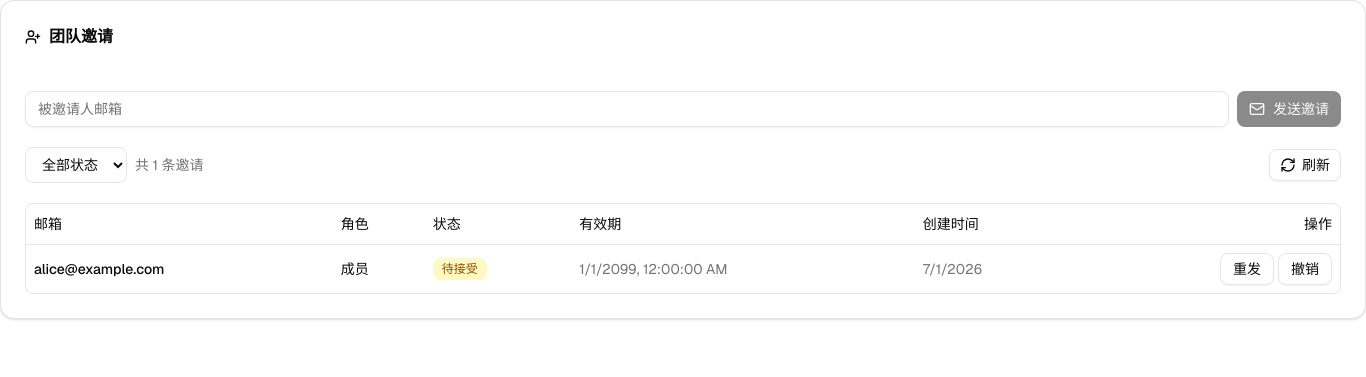
Scenario: InvitationsManager - 撤销与重发 › 重发 410 → 内联显示后端 error（不刷新列表）
This screenshot has width=1366, height=377.
Expected: the text "alice@example.com" is shown, [26, 244, 333, 292]
Click the button "重发".
click(1247, 268)  # box [1220, 252, 1274, 284]
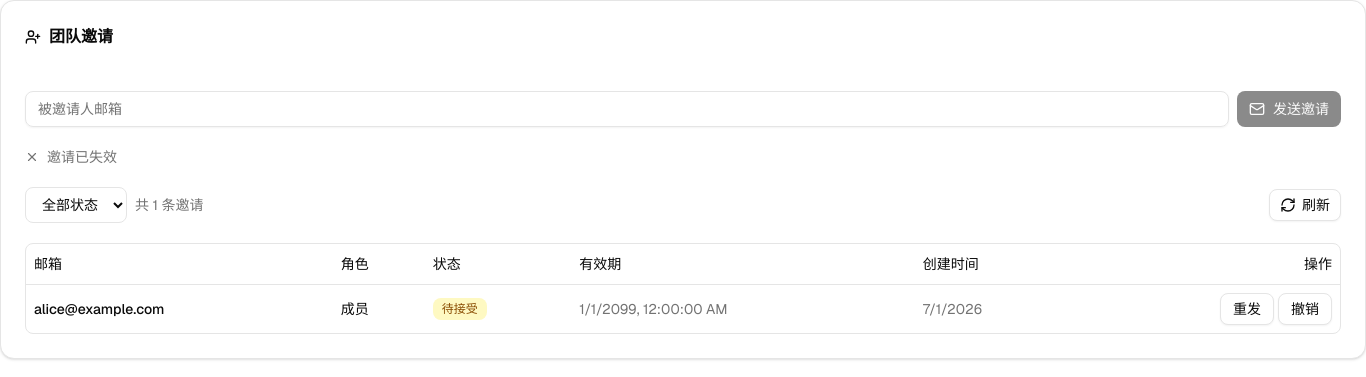
Now the text "邀请已失效" is shown, box [25, 148, 117, 166]
